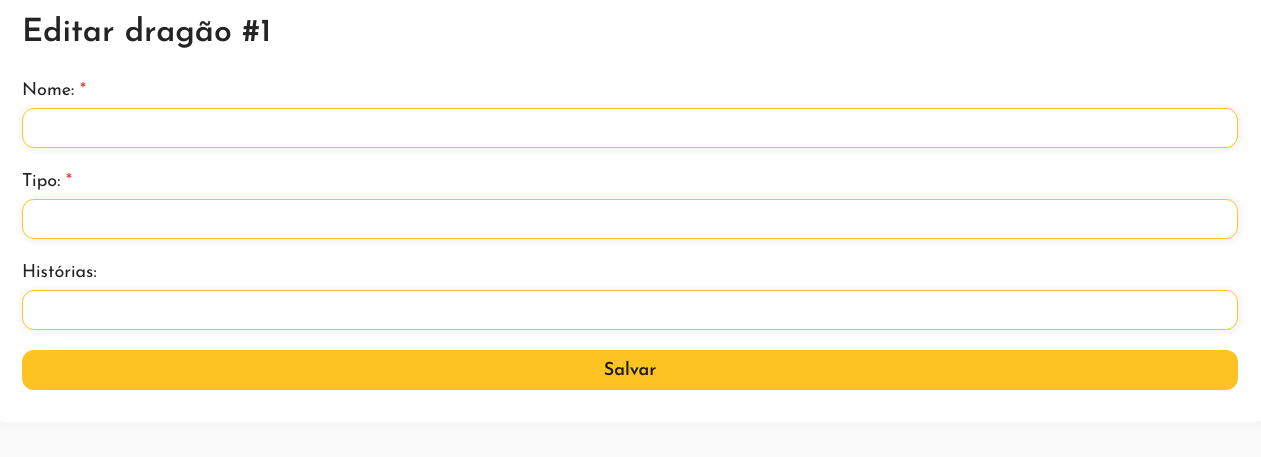
Test: DragonForm › Update form › show error when name and type are empty
This screenshot has width=1261, height=457.
Click the button "Salvar".
click(630, 370)  # box [22,350,1238,390]
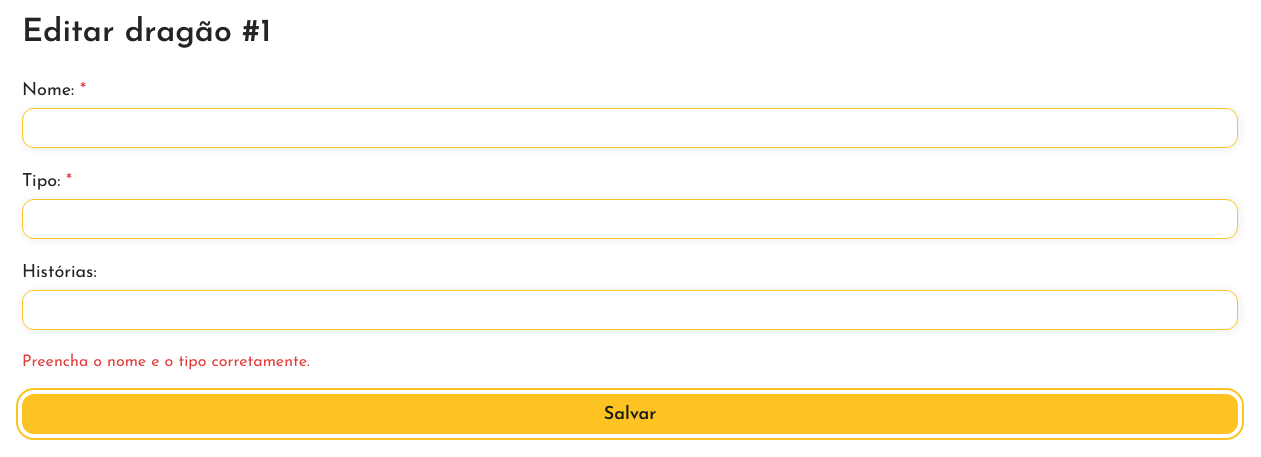
Expected: the text "Preencha o nome e o tipo corretamente." is shown, [22,354,310,370]
